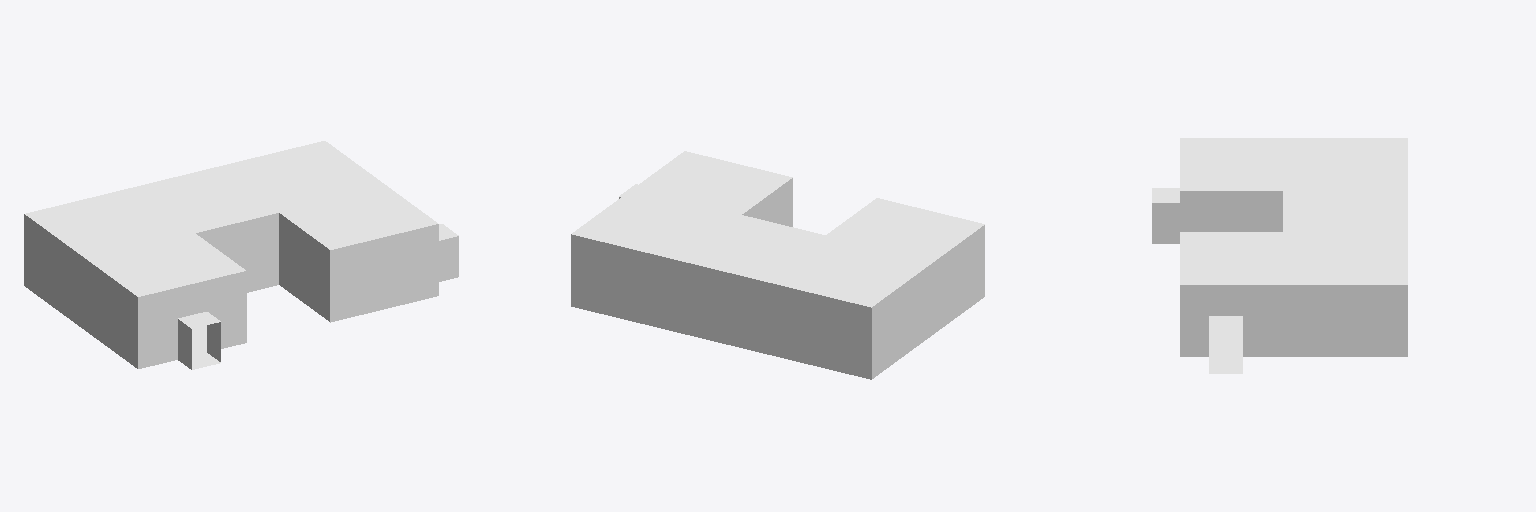
Rendered from room_base9.obj.
The picture shows the model from 3 angles: view 1: azimuth 30°, elevation 25°; view 2: azimuth 150°, elevation 25°; view 3: azimuth 270°, elevation 25°; orthographic projection.
Parts seen in each view (by area): view 1: room_base9; view 2: room_base9; view 3: room_base9.
Boxes of the visible parts, x1,y1,x2,y2 form: room_base9: [24, 141, 458, 369]; room_base9: [571, 151, 984, 379]; room_base9: [1152, 138, 1407, 373].
Bounding box in the file's own units: 34 × 7 × 22.5.